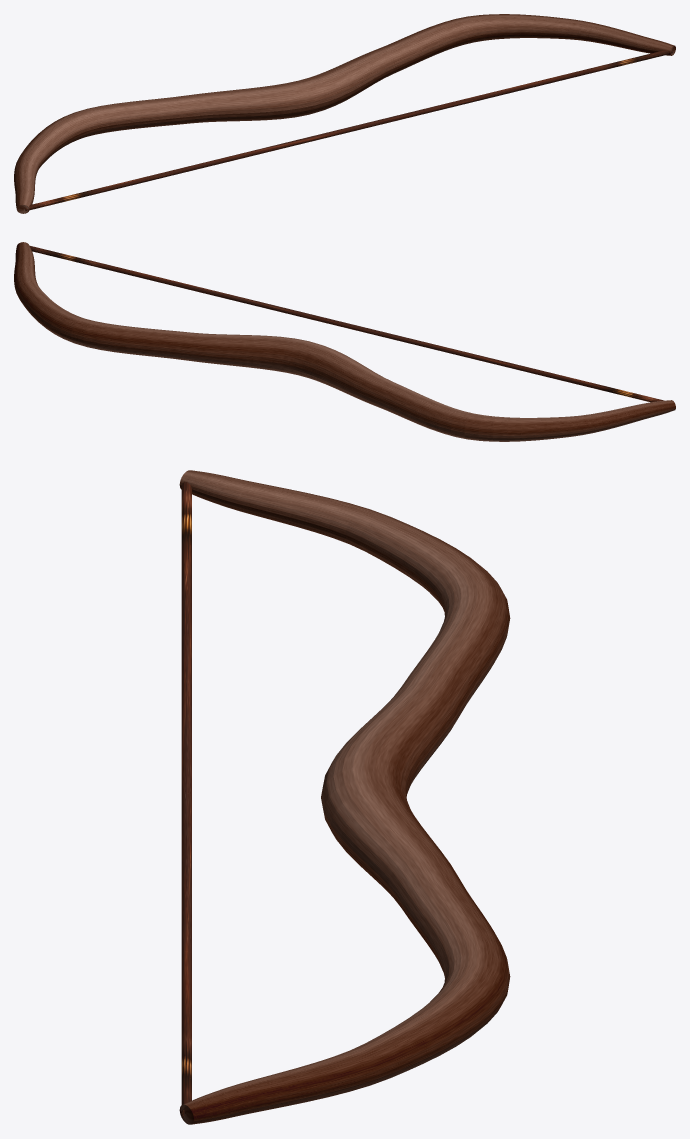
File: frame.obj
The picture shows the model from 3 angles, top to bottom: view 1: azimuth 30°, elevation 25°; view 2: azimuth 150°, elevation 25°; view 3: azimuth 270°, elevation 25°; orthographic projection. The views are drawn at different scales.
Parts seen in each view (by area): view 1: bow, string; view 2: bow, string; view 3: bow, string.
Boxes of the visible parts, left/top/right/bottom form: bow: left=14, top=14, right=675, bottom=213; string: left=25, top=50, right=672, bottom=211; bow: left=14, top=242, right=675, bottom=441; string: left=30, top=246, right=663, bottom=402; bow: left=179, top=470, right=510, bottom=1124; string: left=181, top=482, right=191, bottom=1116.
Size of the model in its own units: 112 by 4.92 by 24.32.
2 materials, 2 textured.
